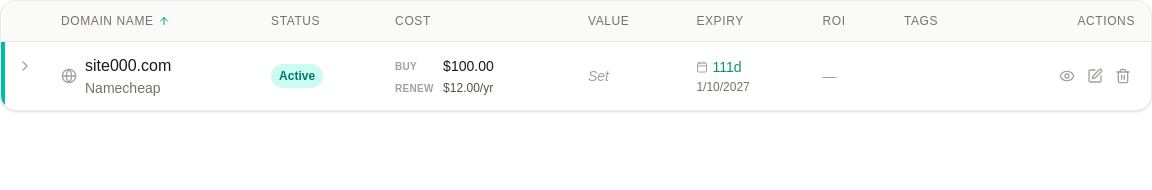
Test: DomainTable 展开行的金额 › 免费 transfer 不写成「−$0.00」
Click the button named "Expand history": (25, 66) [13,54,37,78]
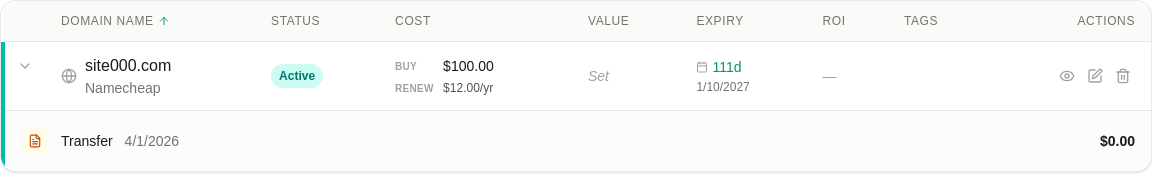
Now the text "$0.00" is shown, box [1100,131,1135,151]
